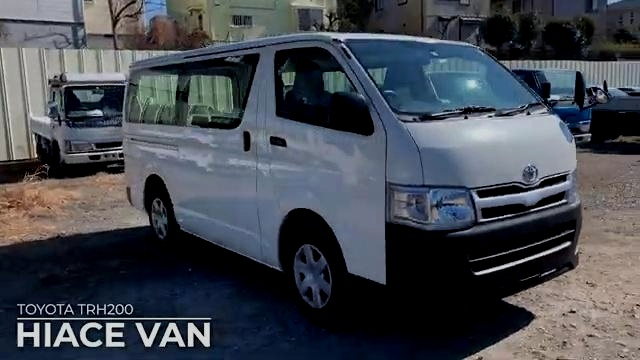van: (118, 31, 584, 318)
